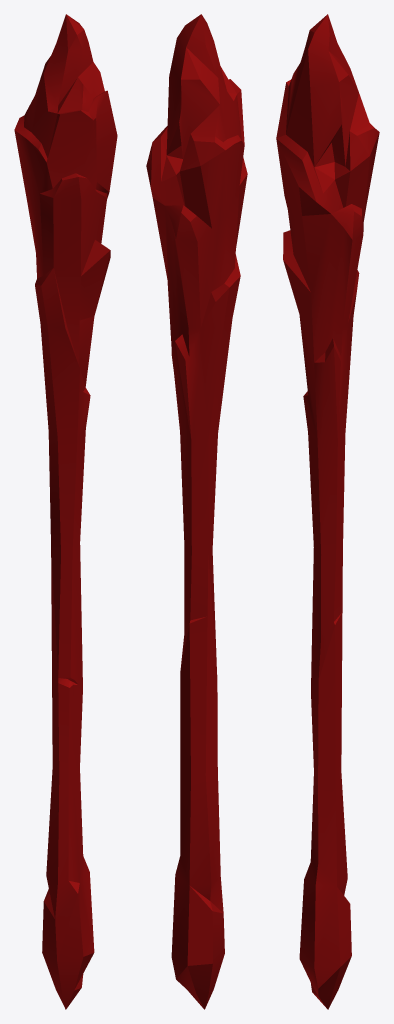
The model's file is CrystalWand.FBX.
The picture shows the model from 3 angles, left to right: view 1: azimuth 90°, elevation 25°; view 2: azimuth 210°, elevation 25°; view 3: azimuth 270°, elevation 25°; orthographic projection.
Parts seen in each view (by area): view 1: Box001; view 2: Box001; view 3: Box001.
Part boxes in pixels (x1,y1,x2,y2): Box001: (14, 14, 117, 1009); Box001: (146, 14, 247, 1009); Box001: (276, 14, 379, 1009).
Bounding box in the file's own units: 16.94 × 183 × 17.25.
